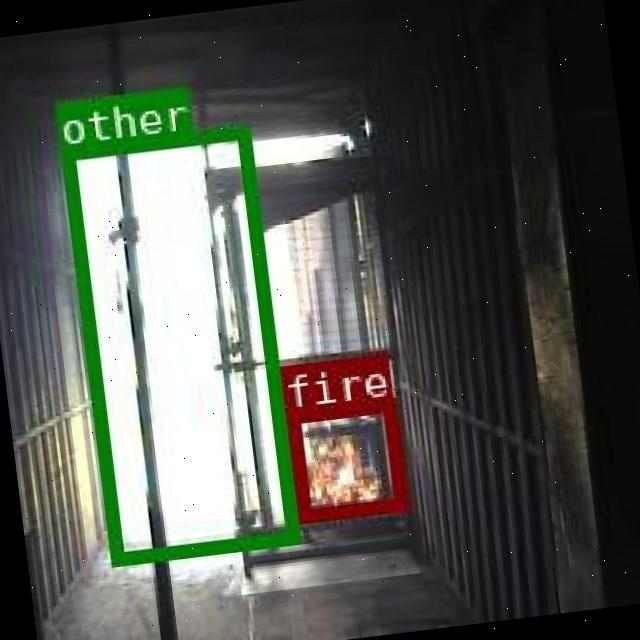fire: (284, 397, 404, 519)
